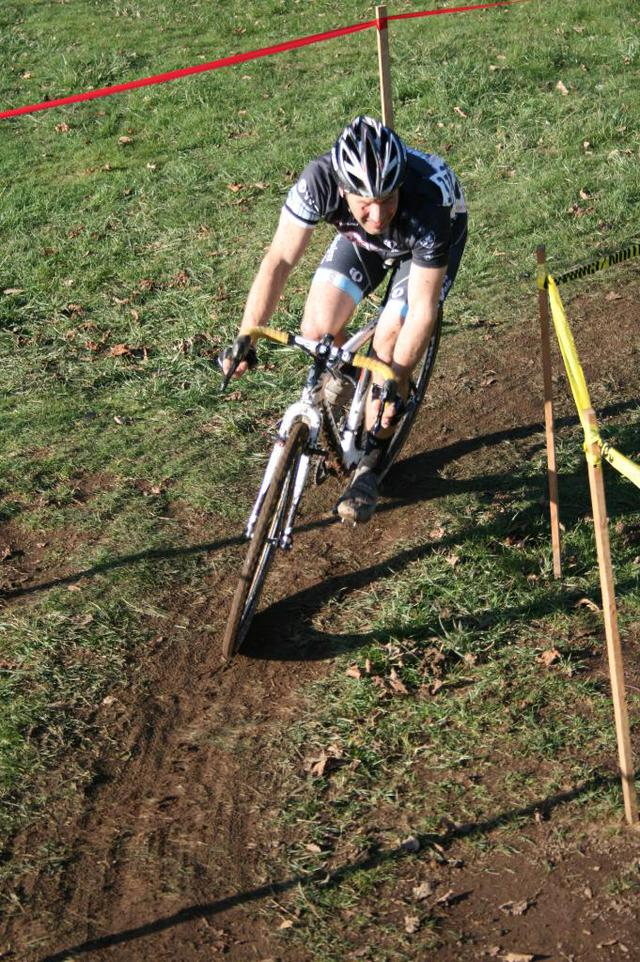helmet: (331, 123, 400, 194)
